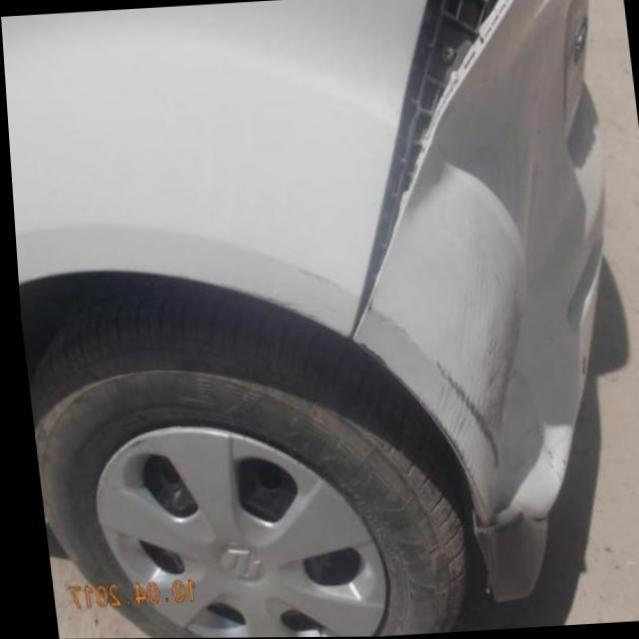dent: (466, 129, 575, 604)
dislocated part: (341, 0, 510, 350)
scratch: (422, 348, 499, 476)
